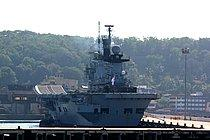MIL_Ship: (32, 19, 163, 127)
